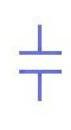Capacitor: (10, 42, 65, 79)
